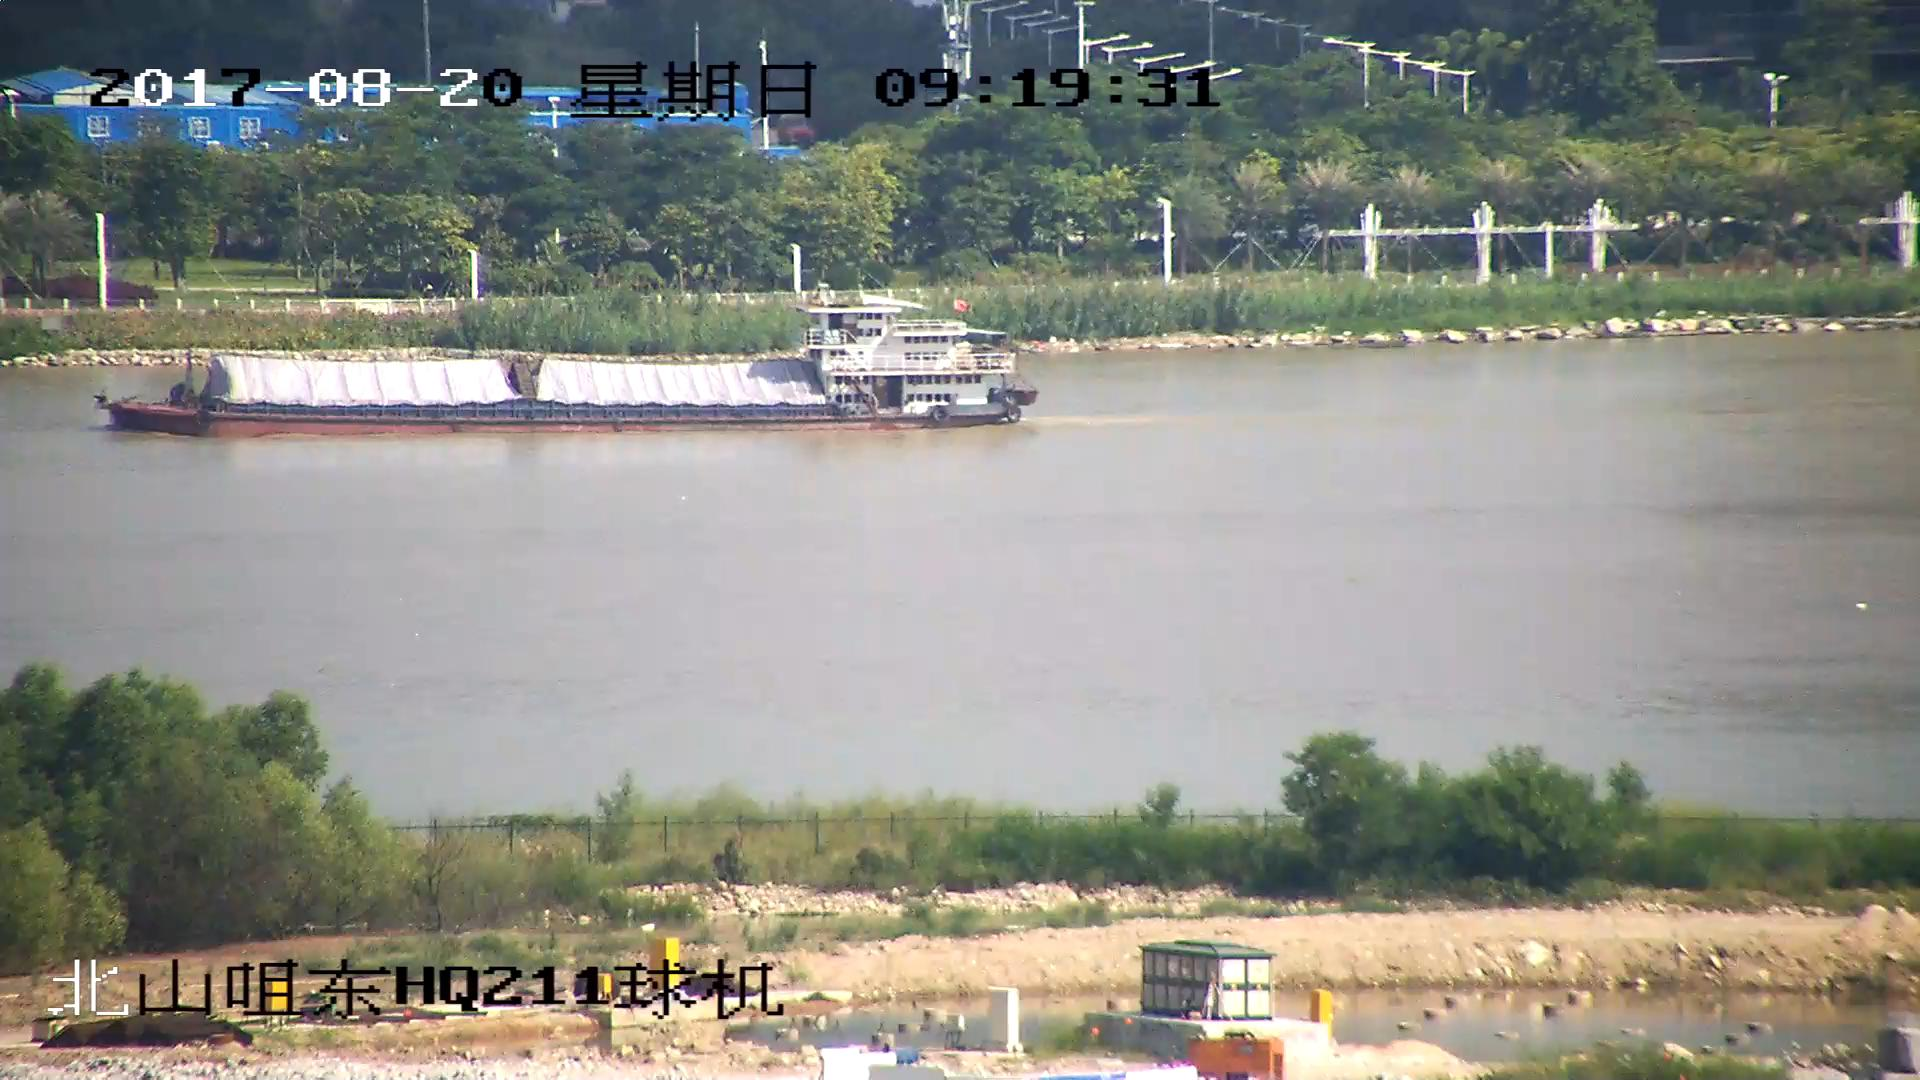general cargo ship: (105, 292, 1033, 434)
